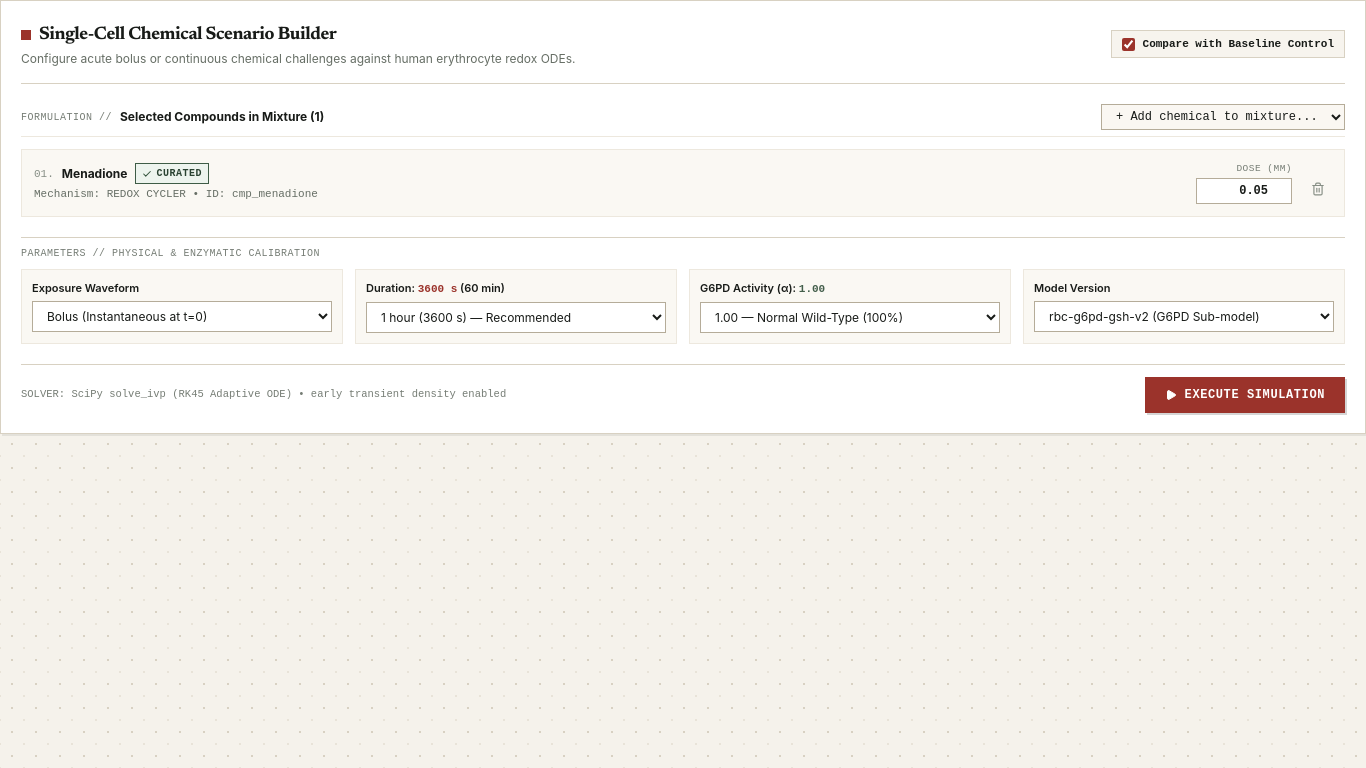
Test case: ScenarioBuilder Component › rejects dose exceeding upper 20.0 mM safety boundary
Replace the text in the number field with "25.0" at [1244, 191], box [1196, 178, 1292, 204]
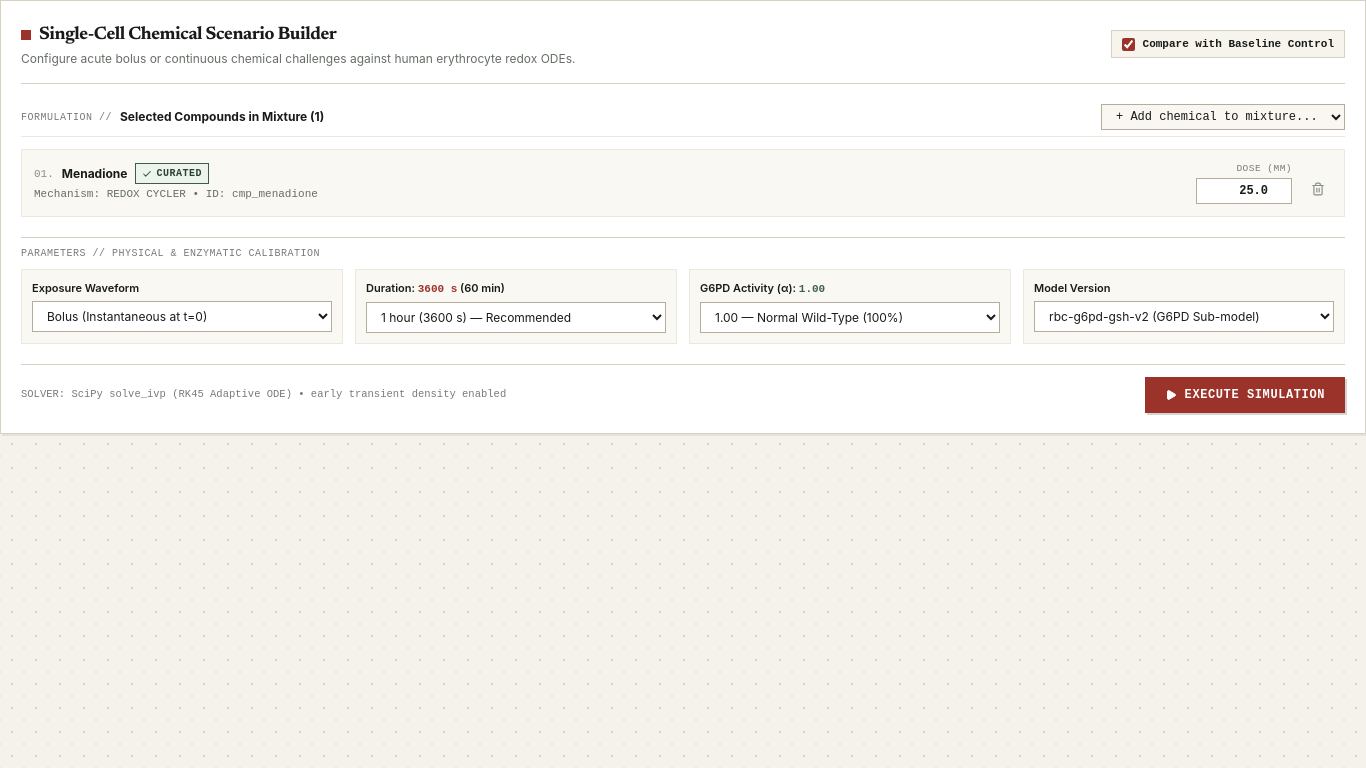
Click the button "Execute Simulation" at [1245, 395], box [1145, 377, 1345, 413]
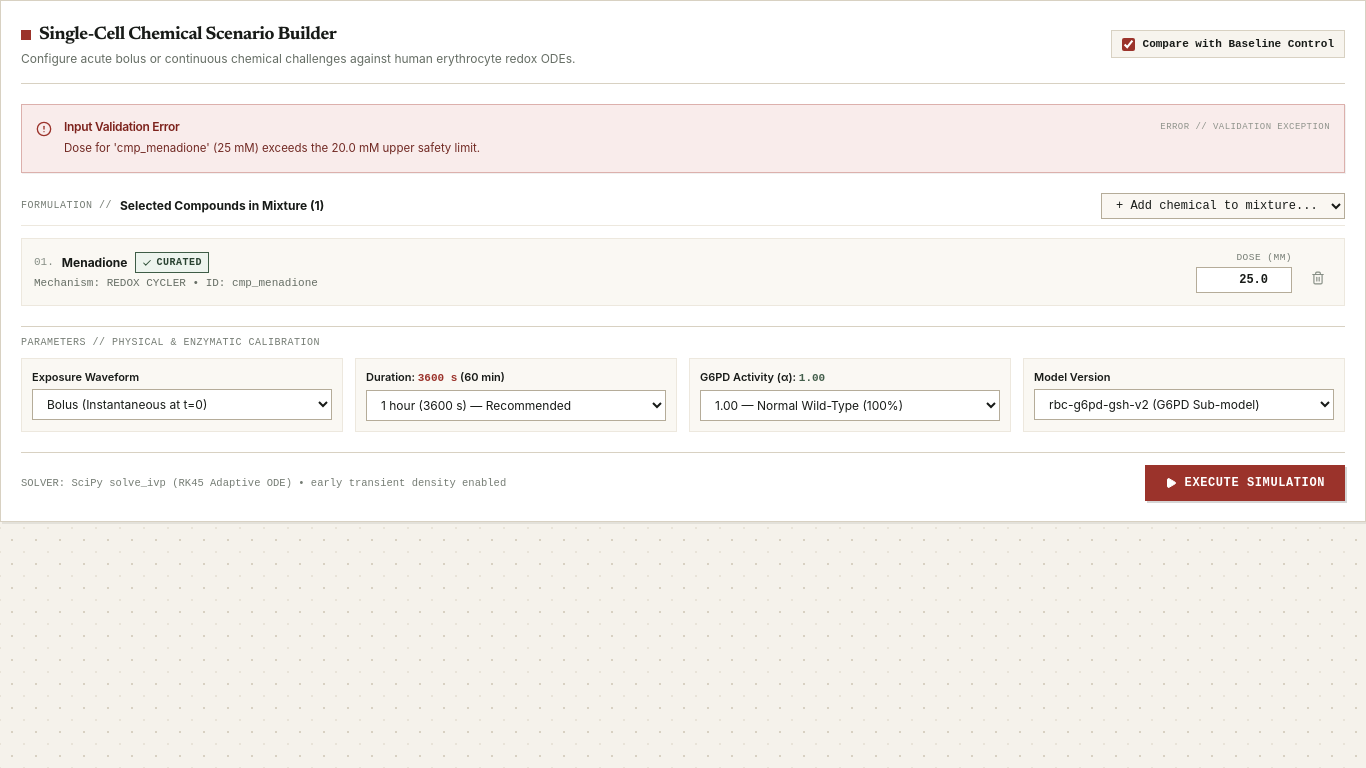
Now the text "exceeds the 20.0 mM upper safety limit" is shown, box [64, 141, 480, 155]
